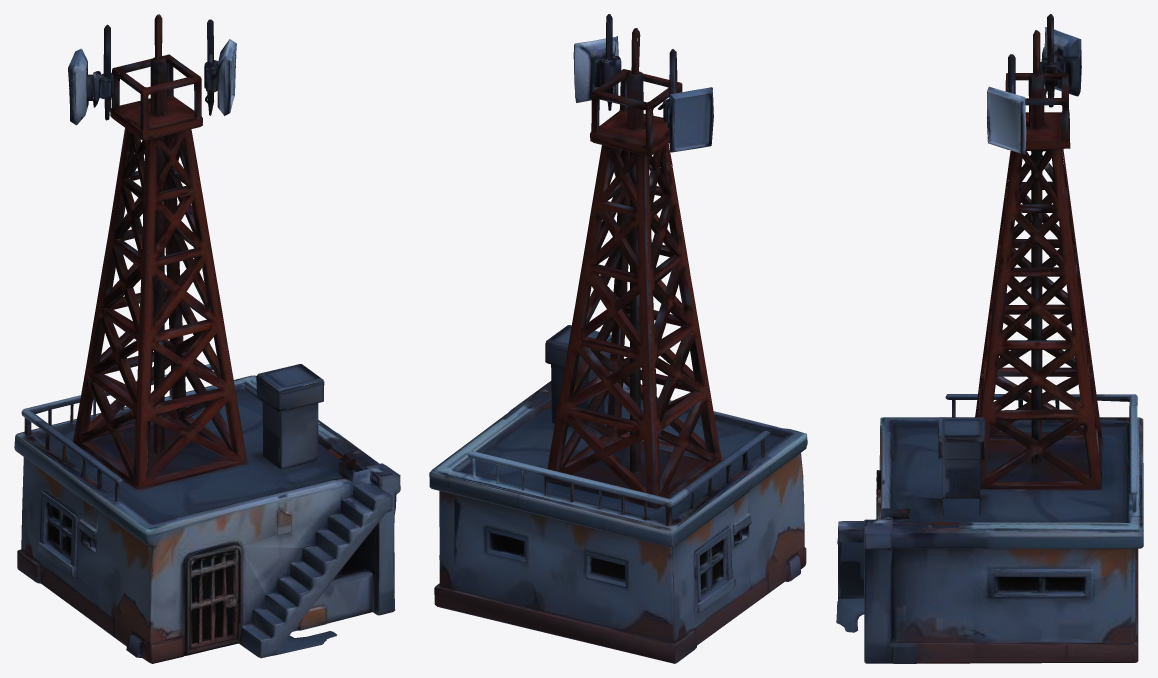
Rendered from tower_house.glb.
The picture shows the model from 3 angles, left to right: view 1: azimuth 30°, elevation 25°; view 2: azimuth 150°, elevation 25°; view 3: azimuth 270°, elevation 25°; orthographic projection. The views are drawn at different scales.
Parts seen in each view (by area): view 1: tower_house; view 2: tower_house; view 3: tower_house.
Boxes of the visible parts, x1=… form: tower_house: x1=14, y1=14, x2=400, y2=663; tower_house: x1=429, y1=14, x2=807, y2=663; tower_house: x1=836, y1=14, x2=1143, y2=663.
Bounding box in the file's own units: 0.3777 × 0.8328 × 0.4118.
Materials: 1 (1 with a texture image).
